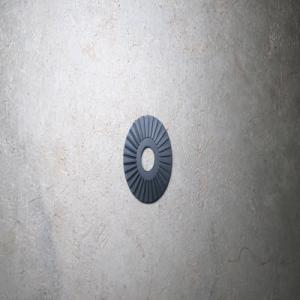Washer: (123, 115, 172, 203)
